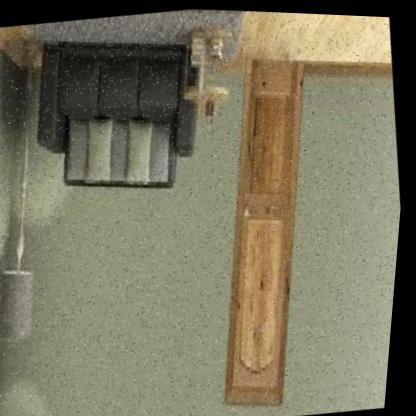Sofa: (11, 14, 231, 226)
Table: (164, 8, 254, 132)
